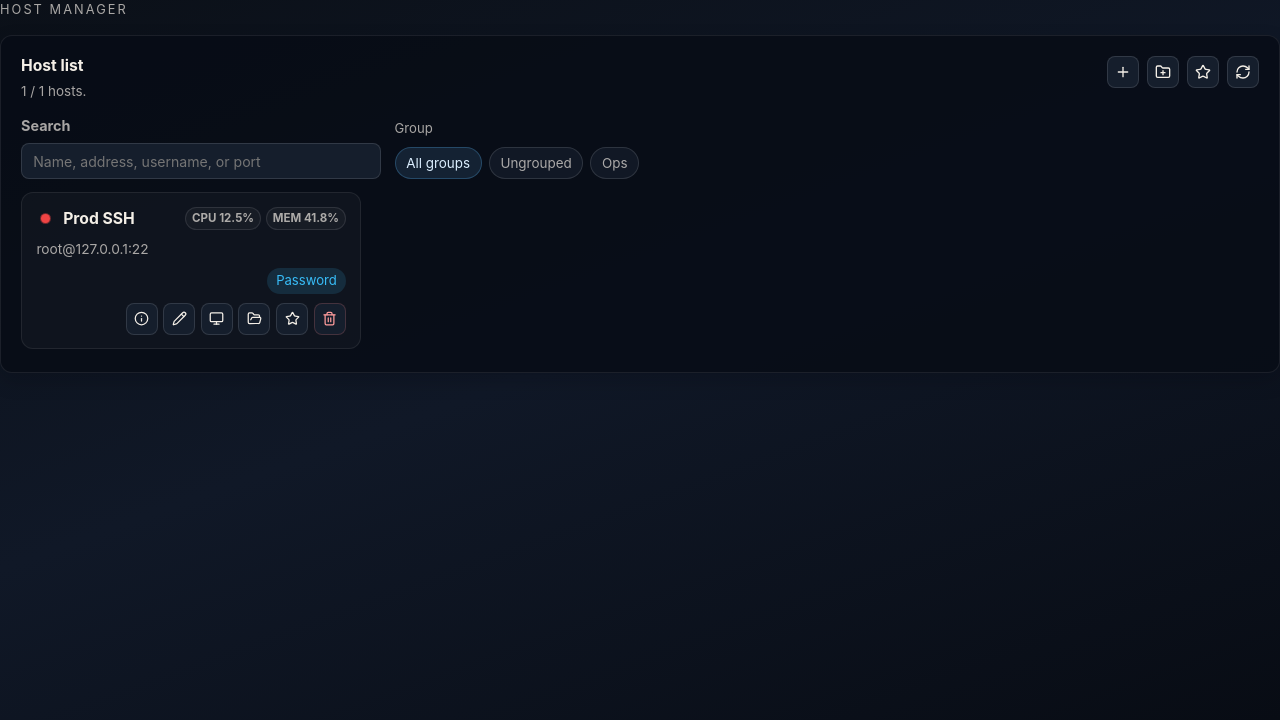
Scenario: HostsPage › refreshes credential options when the kept-alive hosts page becomes active again
Check: the text "Prod SSH" is shown, box [63, 209, 135, 228]
Click the button named "Edit host".
click(179, 319)  # box [163, 303, 195, 335]
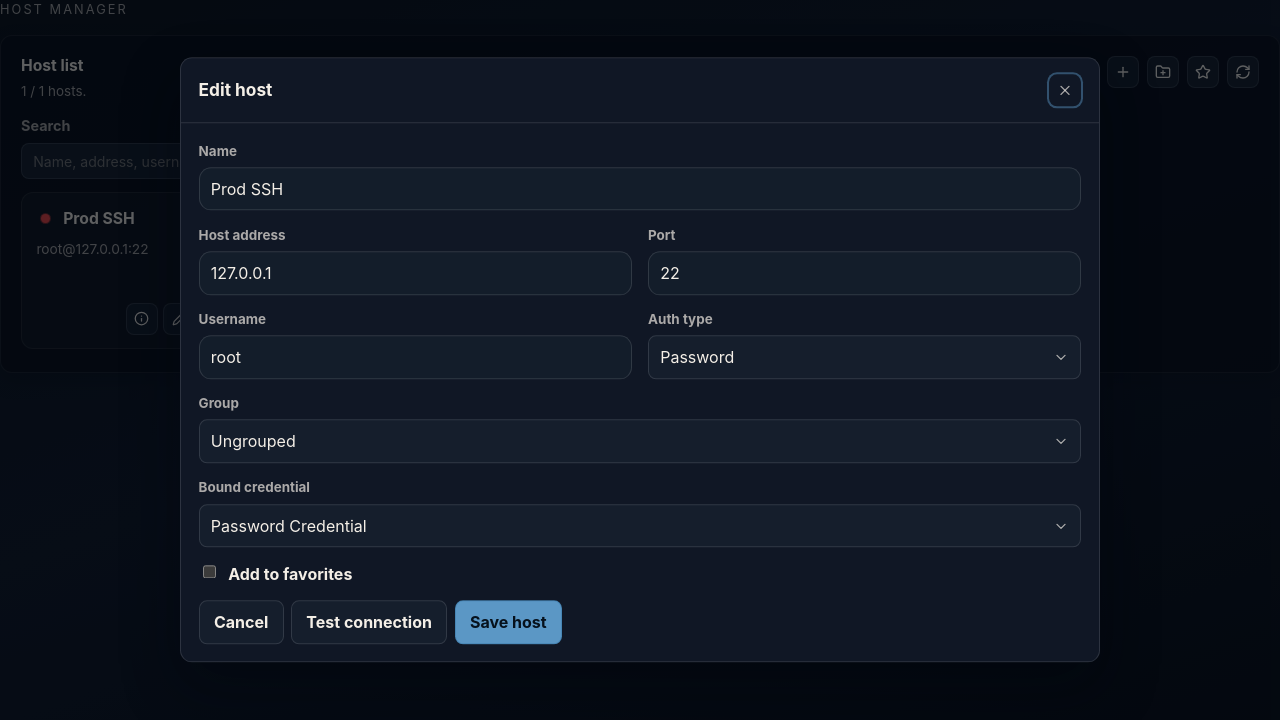
Click the dropdown named "Bound credential".
click(289, 526)  # box [199, 504, 1081, 548]
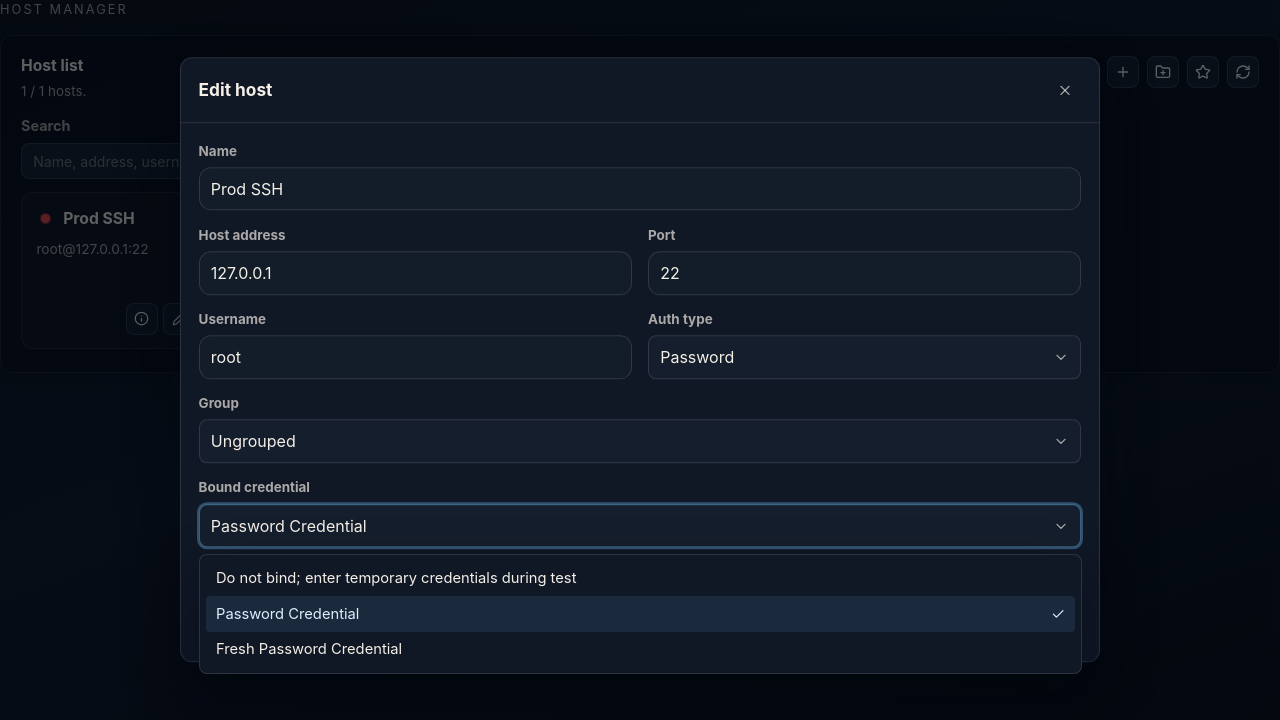
Click the option "Fresh Password Credential".
click(309, 649)  # box [216, 640, 402, 658]
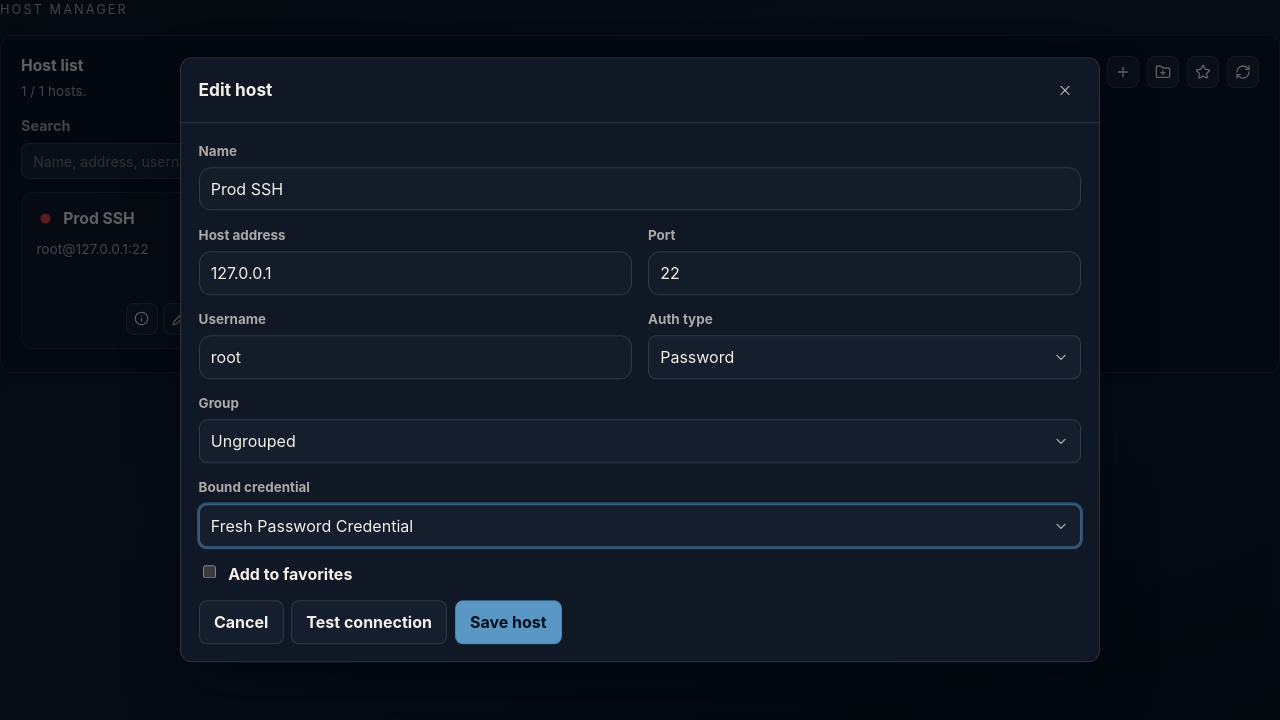
Check: the dropdown named "Bound credential" reads "Fresh Password Credential", box [199, 504, 1081, 548]
